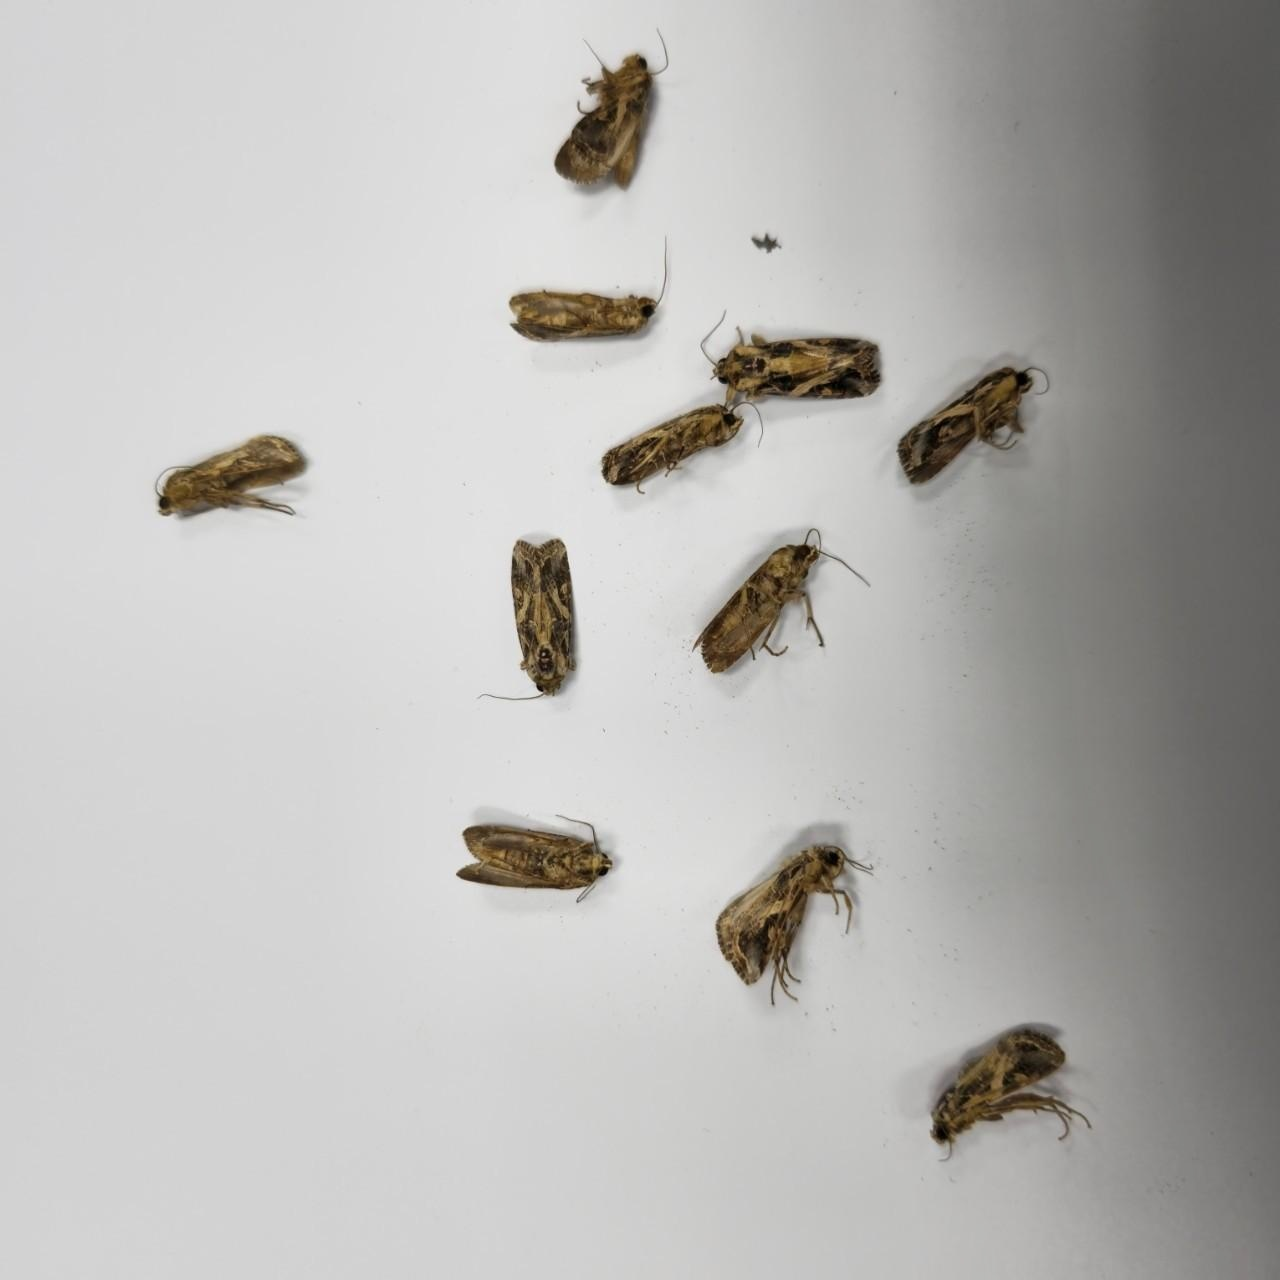Spodoptera litura: (715, 843, 874, 1006), (693, 527, 871, 673), (930, 1029, 1094, 1162), (553, 28, 669, 192), (896, 366, 1050, 485), (701, 309, 883, 407), (510, 234, 667, 343), (477, 537, 577, 701), (601, 401, 763, 493), (457, 813, 614, 903), (154, 435, 306, 517)
